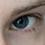eye: (13, 17, 28, 28)
